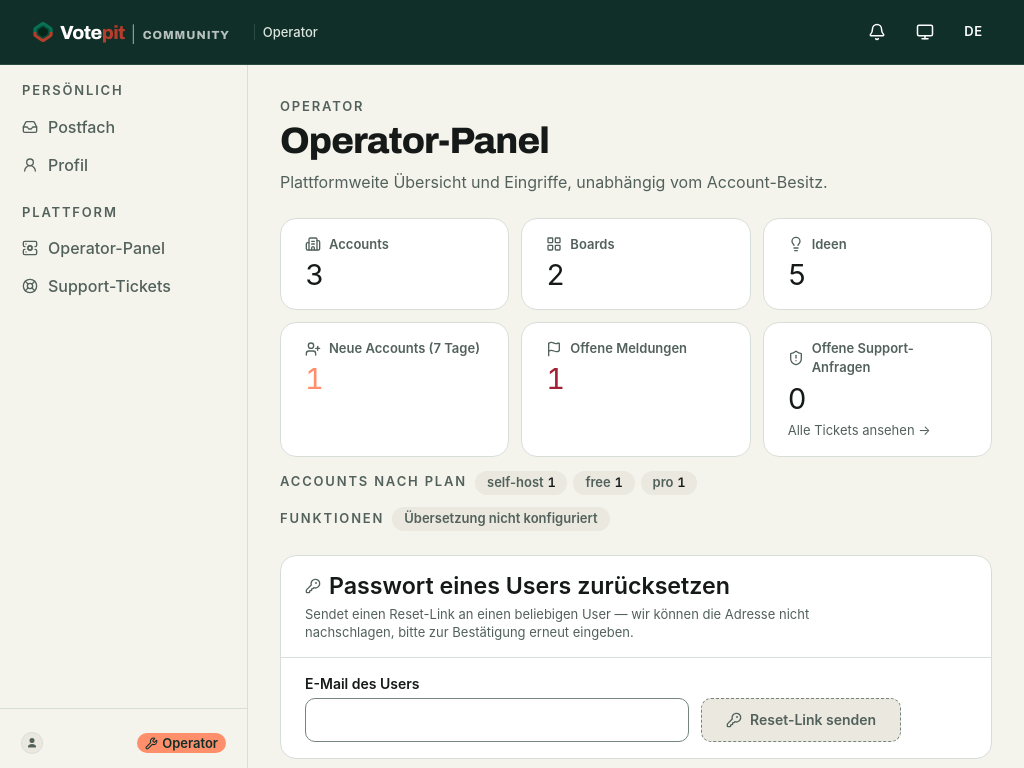
Test: OperatorPage — password reset › shows a not-found error for an unknown email
Type "ghost@example.com" into the field labelled "E-Mail des Users" at coordinates (497, 720), box x1=305 y1=698 x2=689 y2=742
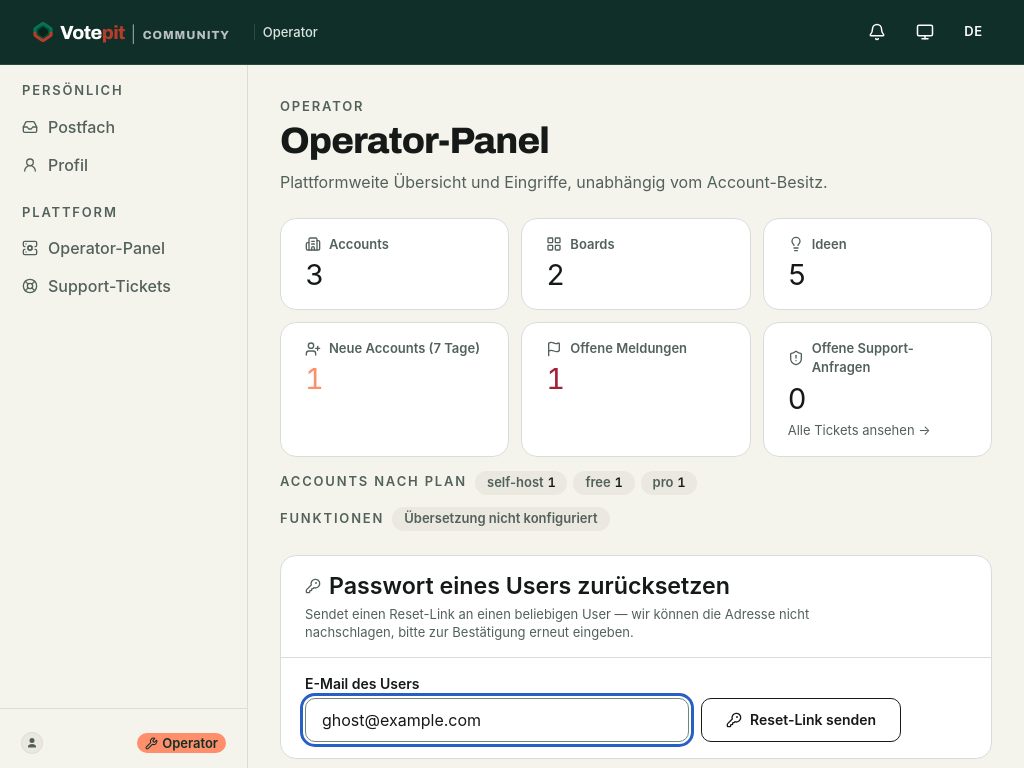
Click the button "Reset-Link senden" at coordinates (801, 720), box x1=701 y1=698 x2=901 y2=742
(page scrolled)
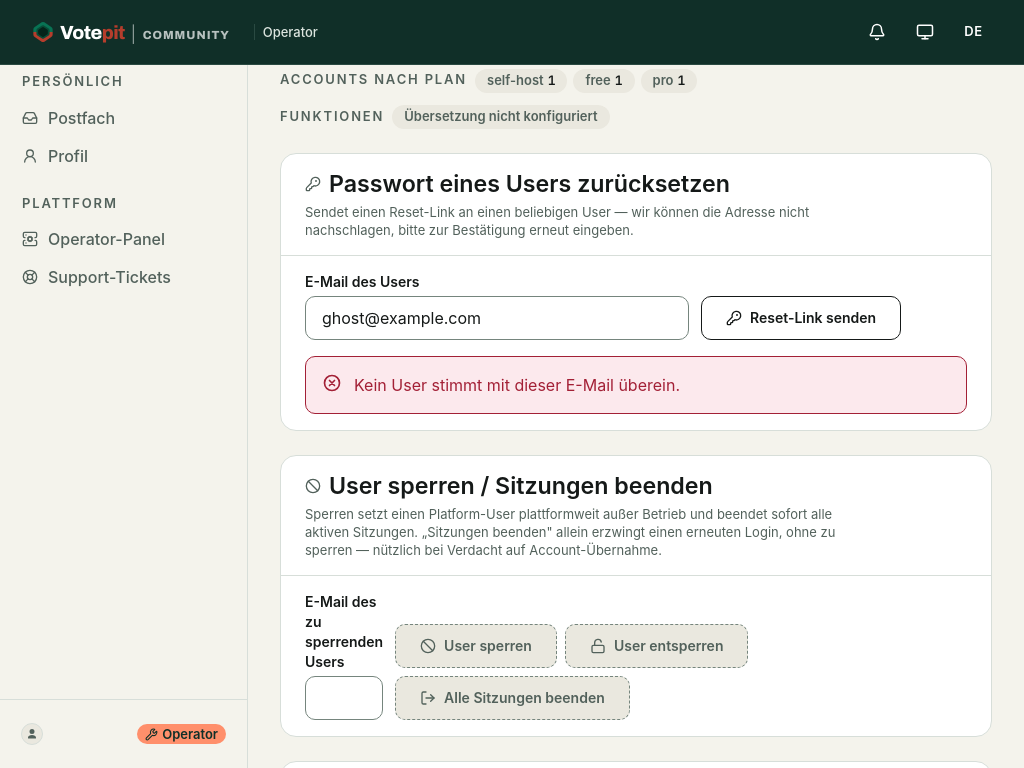
Now the text "Kein User stimmt mit dieser E-Mail überein." is shown, box x1=354 y1=375 x2=680 y2=395
